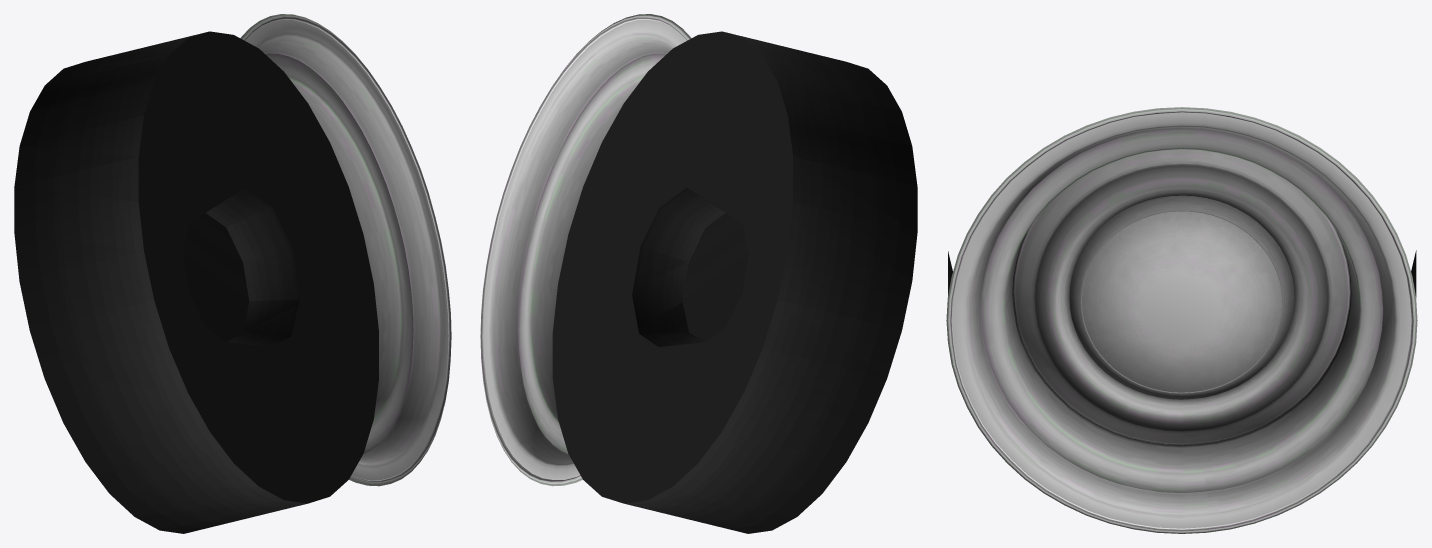
File: wheel19.fbx
The picture shows the model from 3 angles, left to right: view 1: azimuth 30°, elevation 25°; view 2: azimuth 150°, elevation 25°; view 3: azimuth 270°, elevation 25°; orthographic projection. The views are drawn at different scales.
Visible parts, largest first — view 1: cra_series313_wheel_wheel_inner_rim_, wheel_rim, cra_series313_wheel_wheel_chrome_rim_; view 2: cra_series313_wheel_wheel_inner_rim_, wheel_rim, cra_series313_wheel_wheel_chrome_rim_; view 3: cra_series313_wheel_wheel_chrome_rim_, wheel_rim.
Part boxes in pixels (x1,y1,x2,y2): cra_series313_wheel_wheel_inner_rim_: (14, 31, 378, 533); wheel_rim: (240, 14, 451, 486); cra_series313_wheel_wheel_chrome_rim_: (243, 14, 450, 485); cra_series313_wheel_wheel_inner_rim_: (552, 31, 917, 533); wheel_rim: (480, 14, 691, 486); cra_series313_wheel_wheel_chrome_rim_: (480, 15, 685, 485); cra_series313_wheel_wheel_chrome_rim_: (947, 107, 1416, 533); wheel_rim: (946, 107, 1417, 533).
Bounding box in the file's own units: 0.2273 × 0.48 × 0.4801.
1 material, 1 textured.
